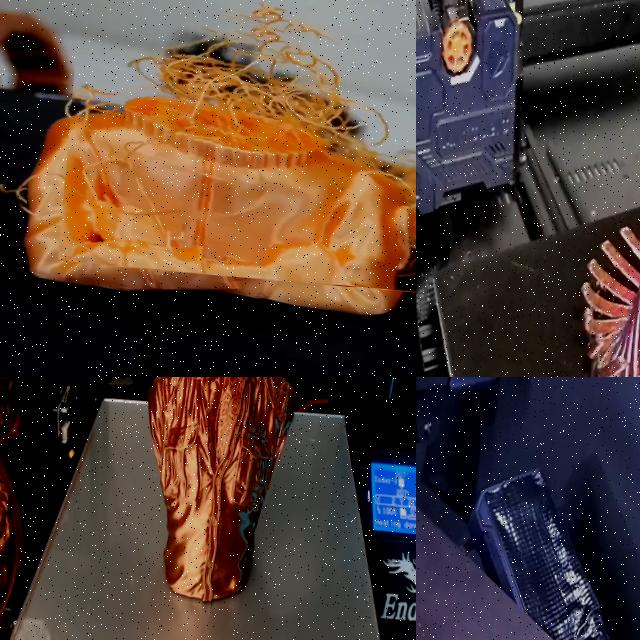spaghetti: (72, 19, 416, 187), (103, 38, 416, 174), (0, 184, 26, 209)
